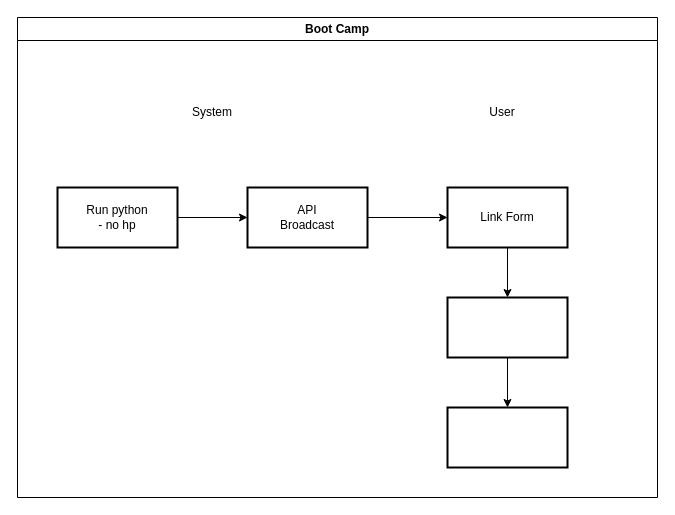
The diagram is 675 pixels wide and 515 high, and some of its shapes have lost their labels. Here are the shapes that lost their labels. From the top down, the centre of each, then its label:
At point (507, 327): "Form".
At point (507, 437): "Wording WA".
